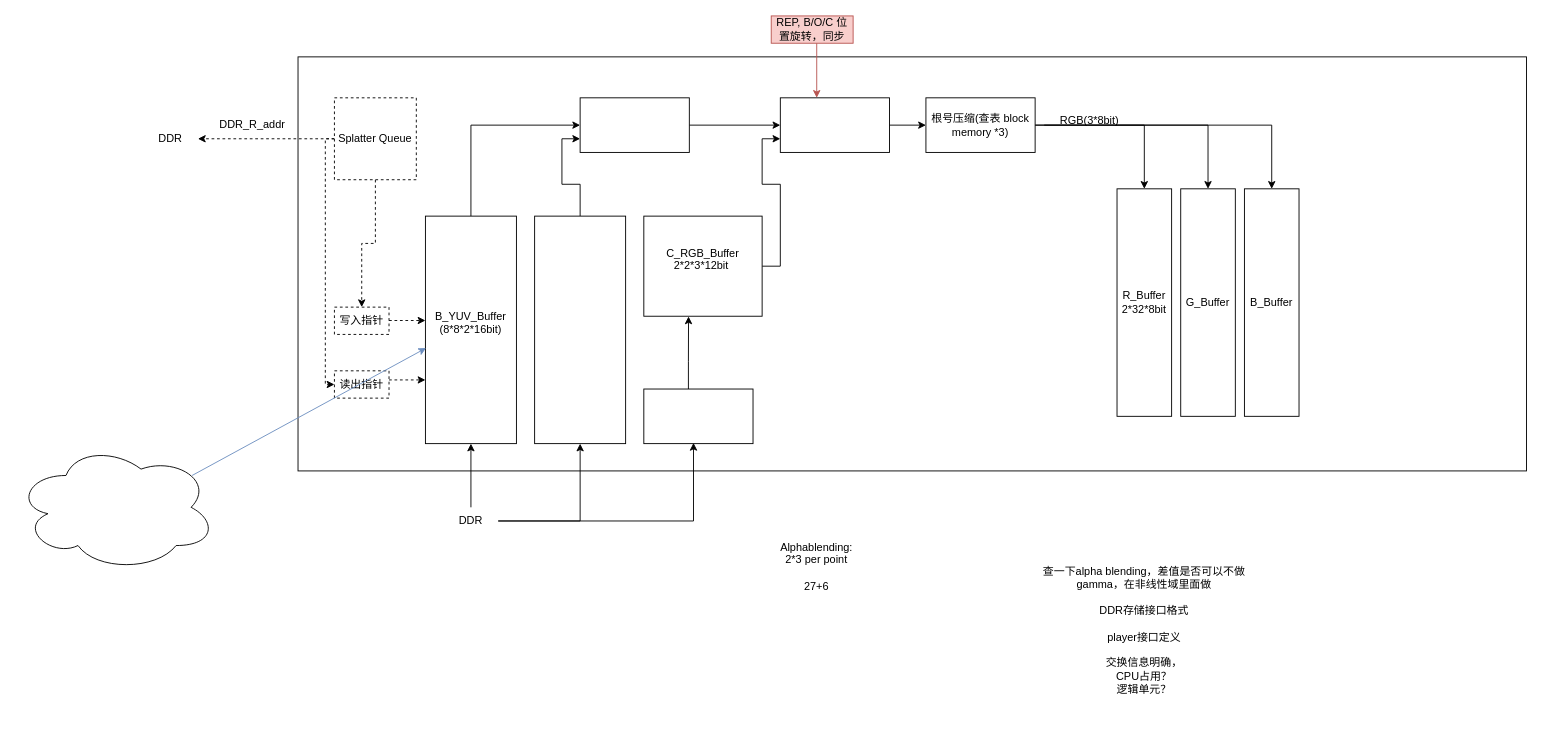
Some shapes in this 1542 by 751 pixel diagram are drawn without their labels. The centre of each missing label's shape, as x and y in pixels:
Cursor Cache (Block Memory *4*6人): (x=698, y=416)
O_YUV_Buffer: (x=580, y=329)
YUV-> RGB -> Gamma查表（12*2）*18k block mem): (x=634, y=124)
两个指针相差8个地址时触发新的写入（从DDR更新内容）: (x=115, y=507)
差值+Alpha_blending: (x=834, y=124)
